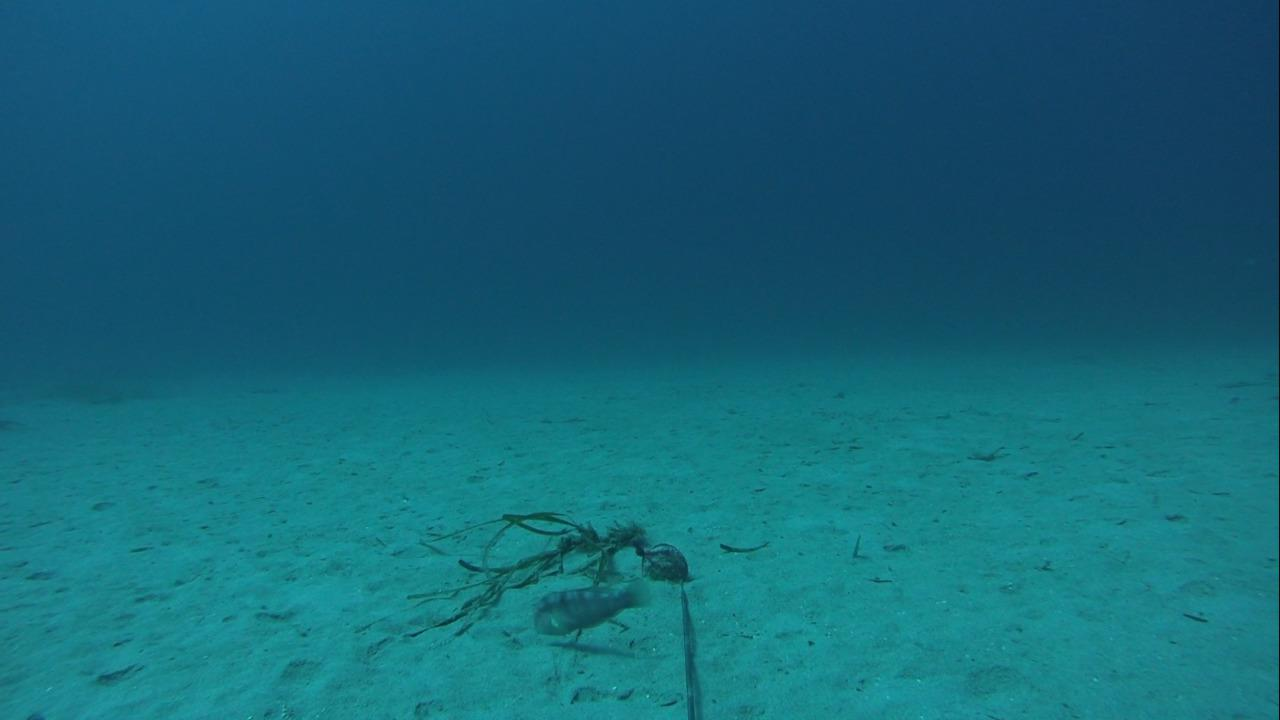raor: (528, 579, 647, 643)
